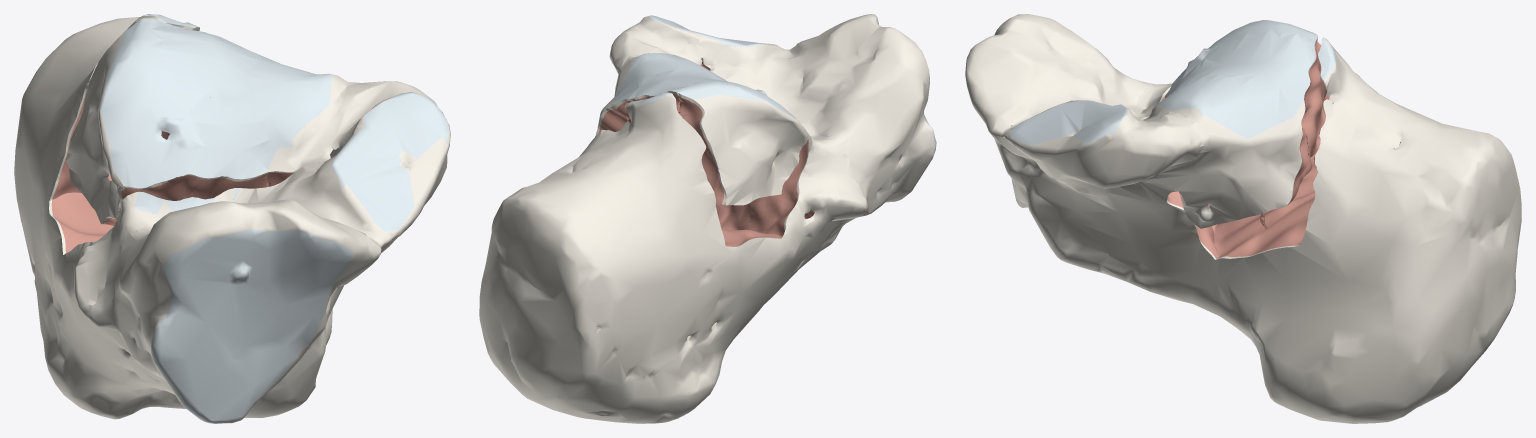
File: S-IV_elderly.glb
3 renders of one model, left to right at view 1: azimuth 30°, elevation 25°; view 2: azimuth 150°, elevation 25°; view 3: azimuth 270°, elevation 25°, orthographic. The views are drawn at different scales.
Visible parts, largest first — view 1: calcaneus: sustentacular fragment, calcaneus: tuberosity, calcaneus: lateral joint fragment, calcaneus: medial joint fragment, calcaneus: central joint fragment 2, calcaneus: central joint fragment 1; view 2: calcaneus: tuberosity, calcaneus: sustentacular fragment, calcaneus: lateral joint fragment, calcaneus: medial joint fragment, calcaneus: central joint fragment 1; view 3: calcaneus: tuberosity, calcaneus: sustentacular fragment, calcaneus: medial joint fragment, calcaneus: central joint fragment 1, calcaneus: lateral joint fragment.
Boxes of the visible parts, left/top/right/bottom form: calcaneus: sustentacular fragment: left=89, top=81, right=450, bottom=423; calcaneus: tuberosity: left=14, top=14, right=332, bottom=419; calcaneus: lateral joint fragment: left=66, top=20, right=206, bottom=225; calcaneus: medial joint fragment: left=225, top=39, right=361, bottom=186; calcaneus: central joint fragment 2: left=162, top=92, right=268, bottom=199; calcaneus: central joint fragment 1: left=141, top=18, right=253, bottom=136; calcaneus: tuberosity: left=479, top=63, right=867, bottom=423; calcaneus: sustentacular fragment: left=609, top=14, right=936, bottom=254; calcaneus: lateral joint fragment: left=678, top=80, right=808, bottom=205; calcaneus: medial joint fragment: left=595, top=35, right=726, bottom=135; calcaneus: central joint fragment 1: left=625, top=68, right=728, bottom=120; calcaneus: tuberosity: left=1097, top=37, right=1521, bottom=423; calcaneus: sustentacular fragment: left=965, top=14, right=1202, bottom=273; calcaneus: medial joint fragment: left=1143, top=75, right=1311, bottom=228; calcaneus: central joint fragment 1: left=1196, top=33, right=1325, bottom=168; calcaneus: lateral joint fragment: left=1167, top=20, right=1321, bottom=92.
Bounding box in the file's own units: 0.0475 × 0.0513 × 0.0757.
